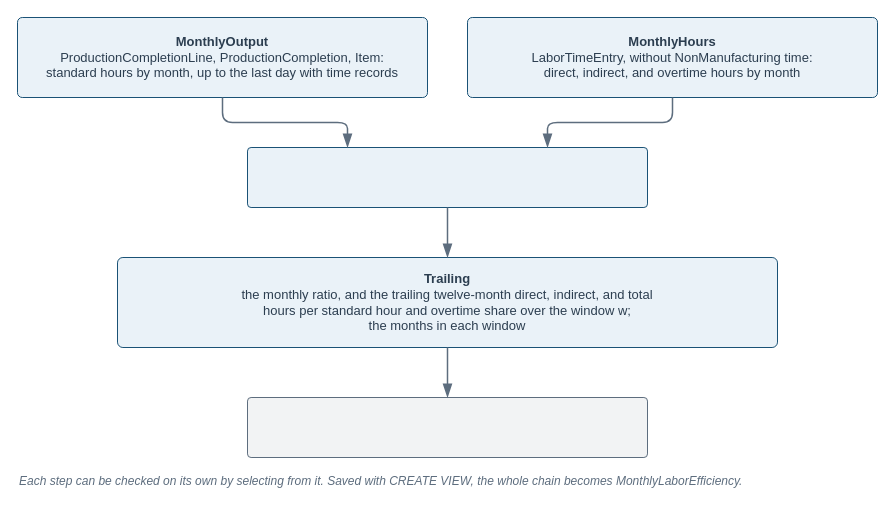
Image size: 895x527. Some labels were removed from this diagram. The shapes that lost their labels are listed below. From the top down, each one's centre as x and y in pixels, then its label:
At pixel 447 177: "Monthly joins the two steps on Month".
At pixel 447 427: "Final SELECT keeps the months whose window holds twelve months".
